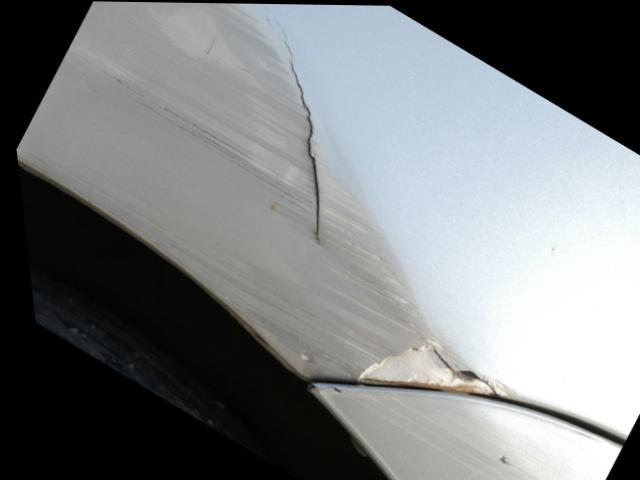crack: (277, 23, 318, 249)
scratch: (13, 1, 502, 399), (309, 386, 565, 480)
